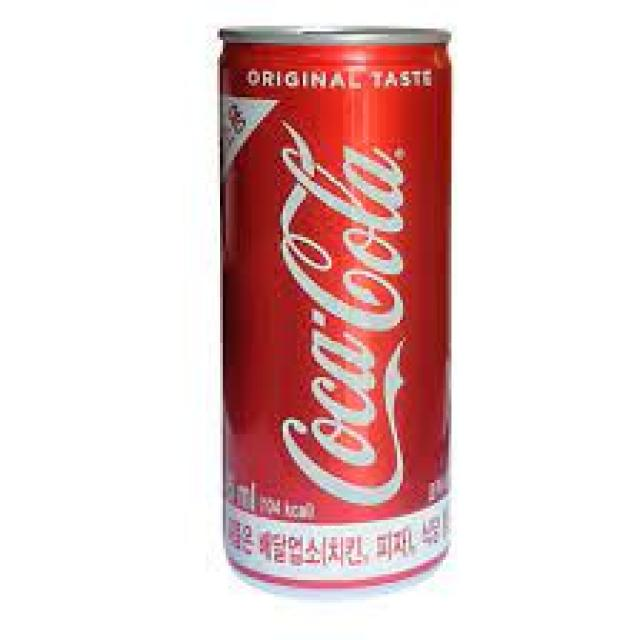Coca-Cola: (206, 14, 461, 596)
